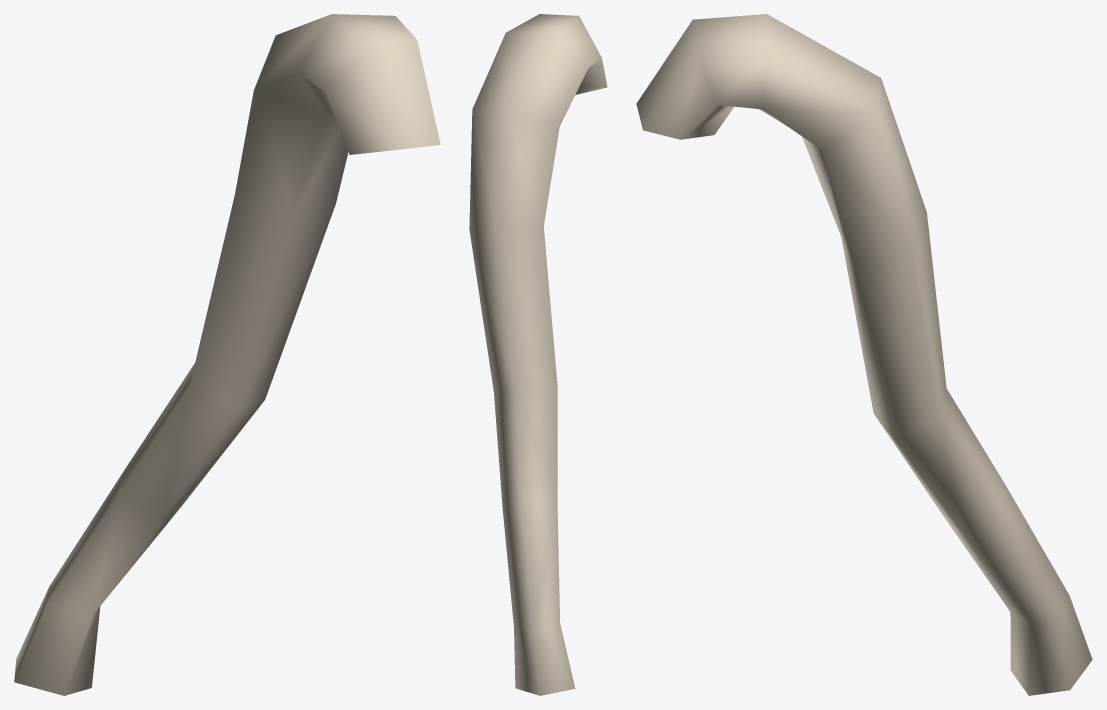
File: ponytail-base.glb
3 views of the same model, side by side, from view 1: azimuth 30°, elevation 25°; view 2: azimuth 150°, elevation 25°; view 3: azimuth 270°, elevation 25° (orthographic). The views are drawn at different scales.
Size of the model in its own units: 0.1735 by 0.5171 by 0.2915.
